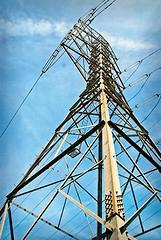power_tower: (0, 16, 161, 240)
